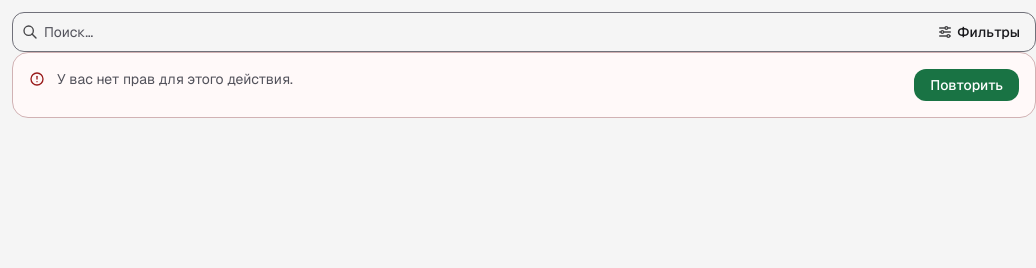
orders hides cached rows on denial and restores the list on retry
The image size is (1036, 268).
Later steps or results of the test are not shown.
Expected: the message shows "У вас нет прав", [57,70,293,88]
Click the button "Повторить". click: (967, 85)
box: [914,69,1019,101]
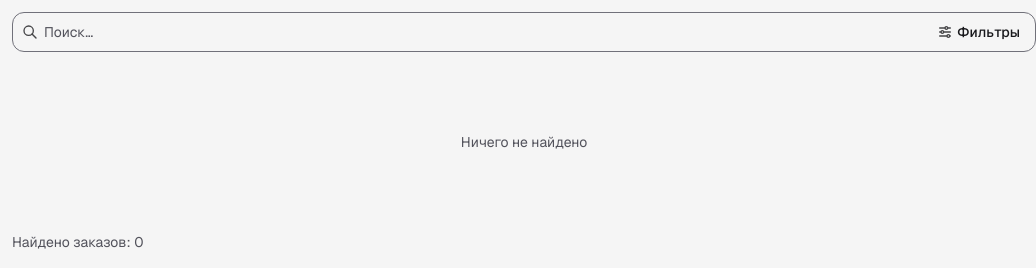
Now the text "Найдено заказов: 0" is shown, box [12,233,143,251]
